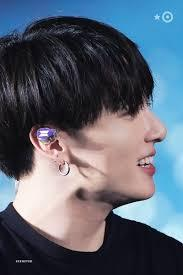earphone: (35, 124, 60, 147)
